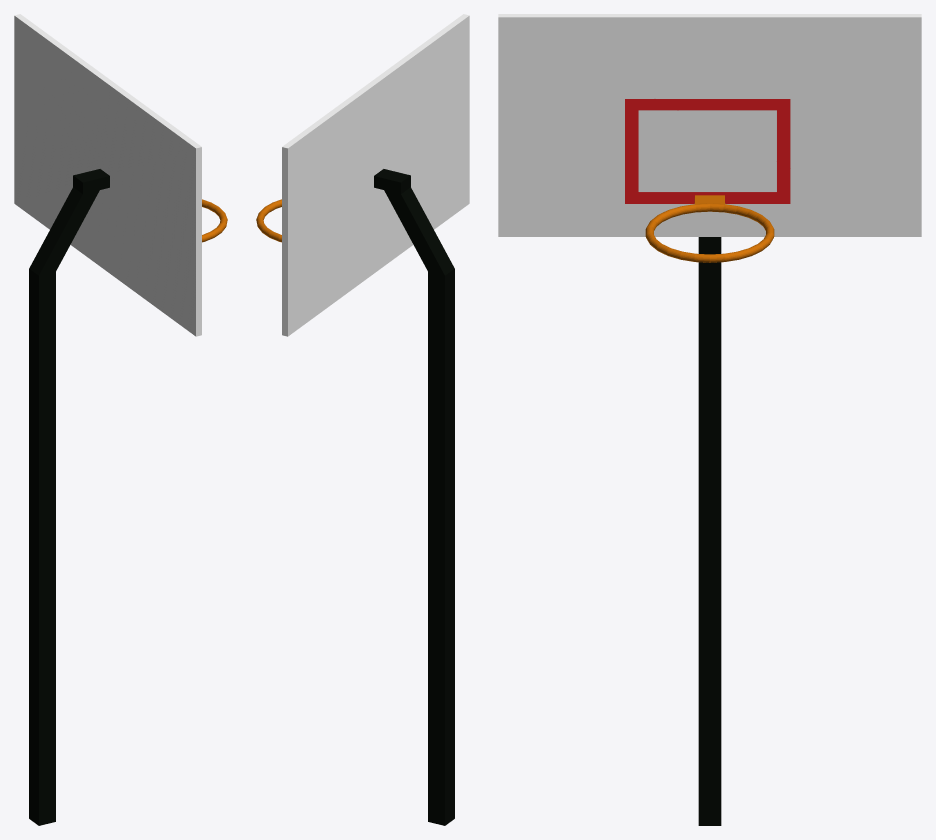
Rendered from hoop.fbx.
3 renders of one model, left to right at view 1: azimuth 30°, elevation 25°; view 2: azimuth 150°, elevation 25°; view 3: azimuth 270°, elevation 25°, orthographic. The views are drawn at different scales.
Parts seen in each view (by area): view 1: backboard, stick, hoop; view 2: backboard, stick, hoop; view 3: backboard, stick, hoop.
Part boxes in pixels (x1=…): backboard: x1=14, y1=14, x2=201, y2=336; stick: x1=29, y1=169, x2=109, y2=825; hoop: x1=202, y1=199, x2=227, y2=242; backboard: x1=282, y1=14, x2=469, y2=336; stick: x1=374, y1=169, x2=454, y2=825; hoop: x1=256, y1=199, x2=281, y2=242; backboard: x1=498, y1=14, x2=921, y2=236; stick: x1=698, y1=237, x2=721, y2=825; hoop: x1=645, y1=195, x2=774, y2=262.
Size of the model in its own units: 414 by 1537 by 700.
